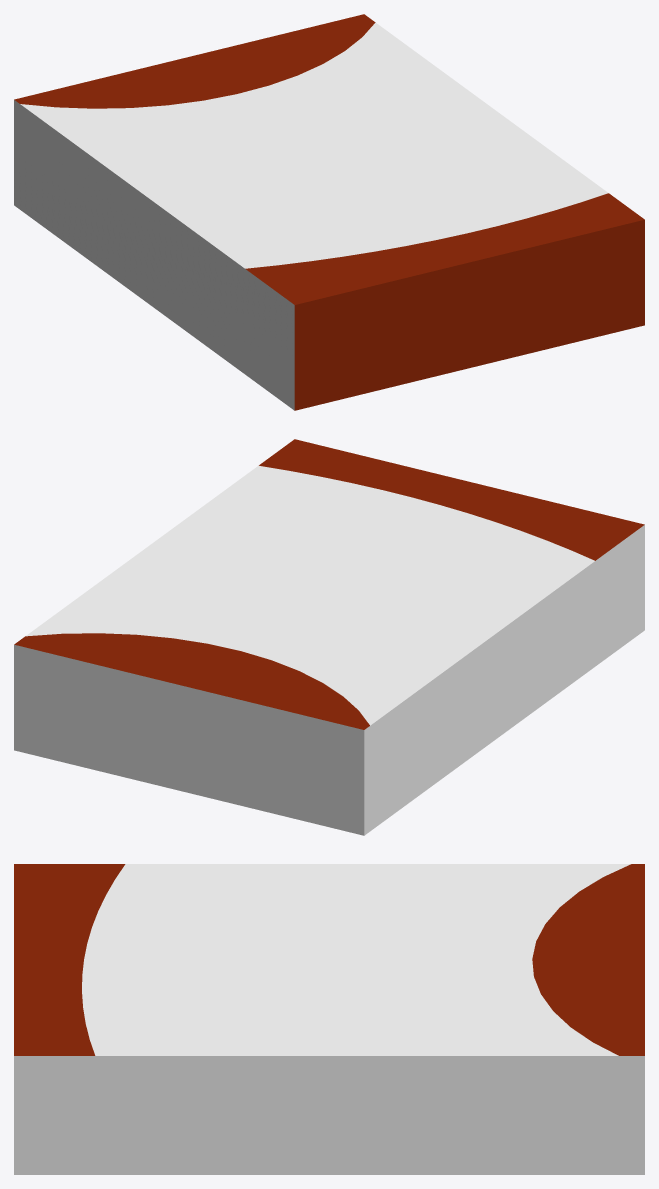
3 renders of one model, top to bottom at view 1: azimuth 30°, elevation 25°; view 2: azimuth 150°, elevation 25°; view 3: azimuth 270°, elevation 25°, orthographic. The views are drawn at different scales.
Parts seen in each view (by area): view 1: cereal low poly; view 2: cereal low poly; view 3: cereal low poly.
Part boxes in pixels (x1,y1,x2,y2): cereal low poly: (14,14,644,410); cereal low poly: (14,439,644,835); cereal low poly: (14,864,644,1174).
Size of the model in its own units: 180 by 52 by 250.
